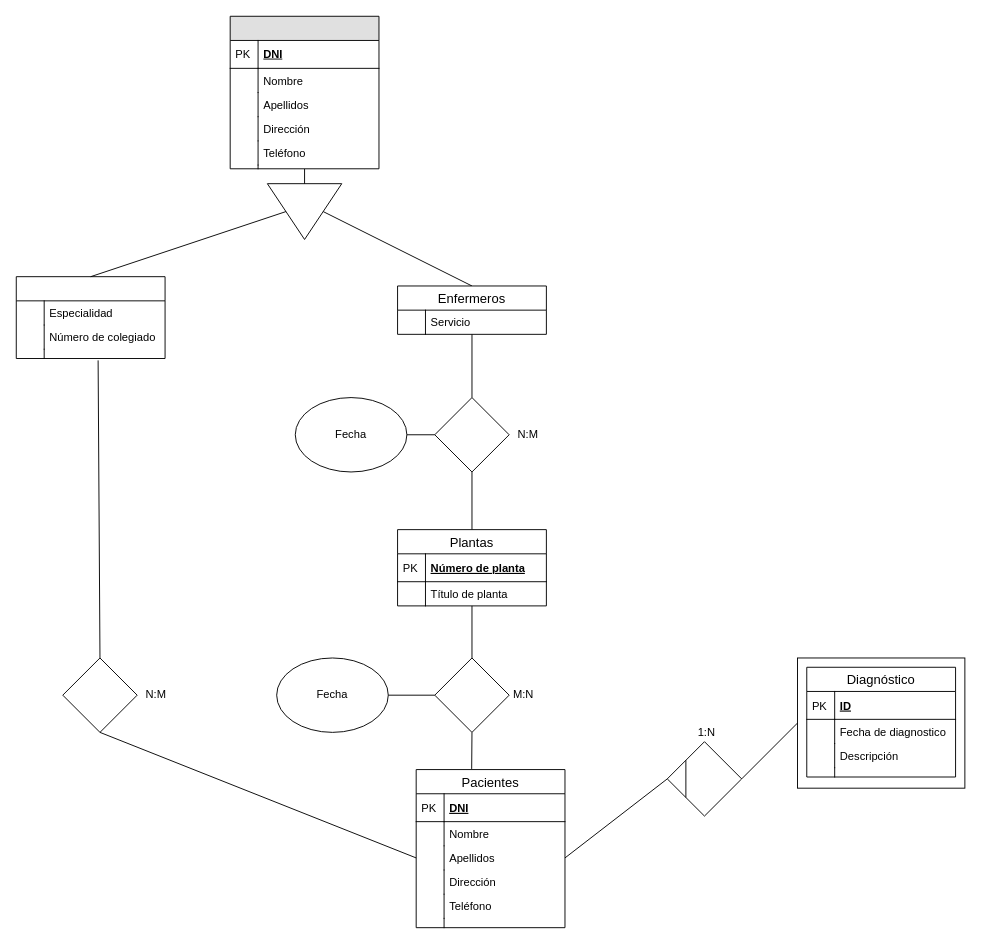
Some shapes in this 981 by 944 pixel diagram are drawn without their labels. Each missing label, with the box of its shape:
Ingresos: (434, 657, 509, 732)
Médicos: (15, 276, 165, 359)
Personal: (229, 15, 379, 169)
